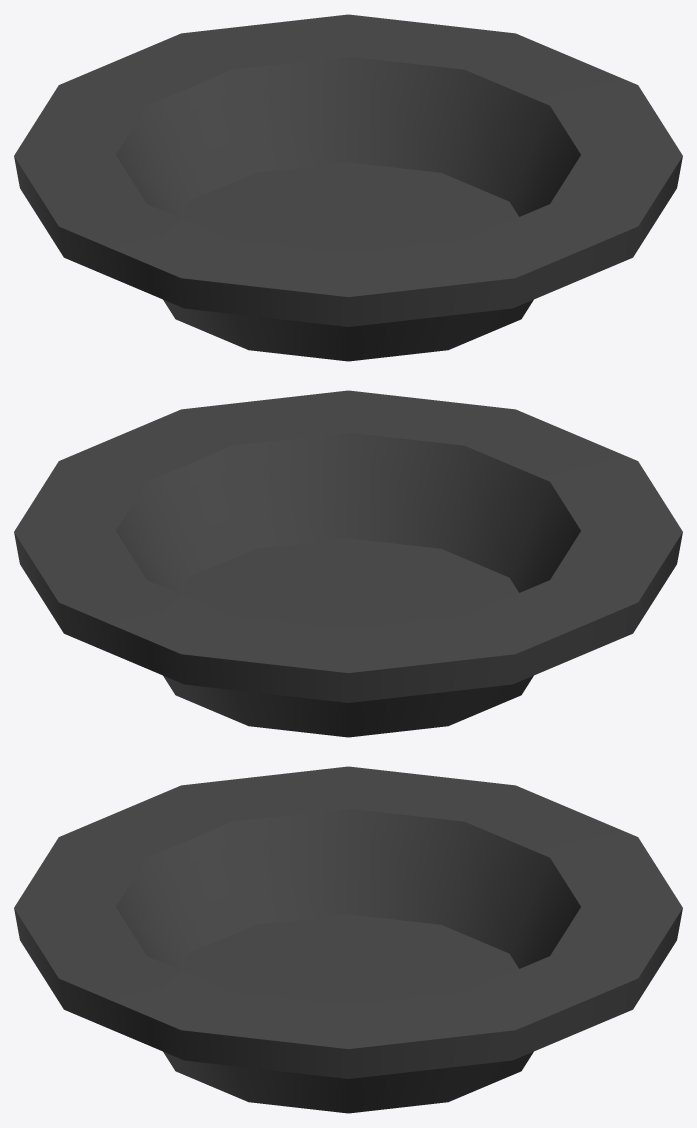
Rendered from Dish_A.fbx.
3 renders of one model, top to bottom at view 1: azimuth 30°, elevation 25°; view 2: azimuth 150°, elevation 25°; view 3: azimuth 270°, elevation 25°, orthographic.
Parts seen in each view (by area): view 1: Dish_A; view 2: Dish_A; view 3: Dish_A.
Part boxes in pixels (x1,y1,x2,y2): Dish_A: (14,14,682,361); Dish_A: (14,390,682,737); Dish_A: (14,766,682,1113).
Size of the model in its own units: 39.41 by 7.94 by 39.41.
